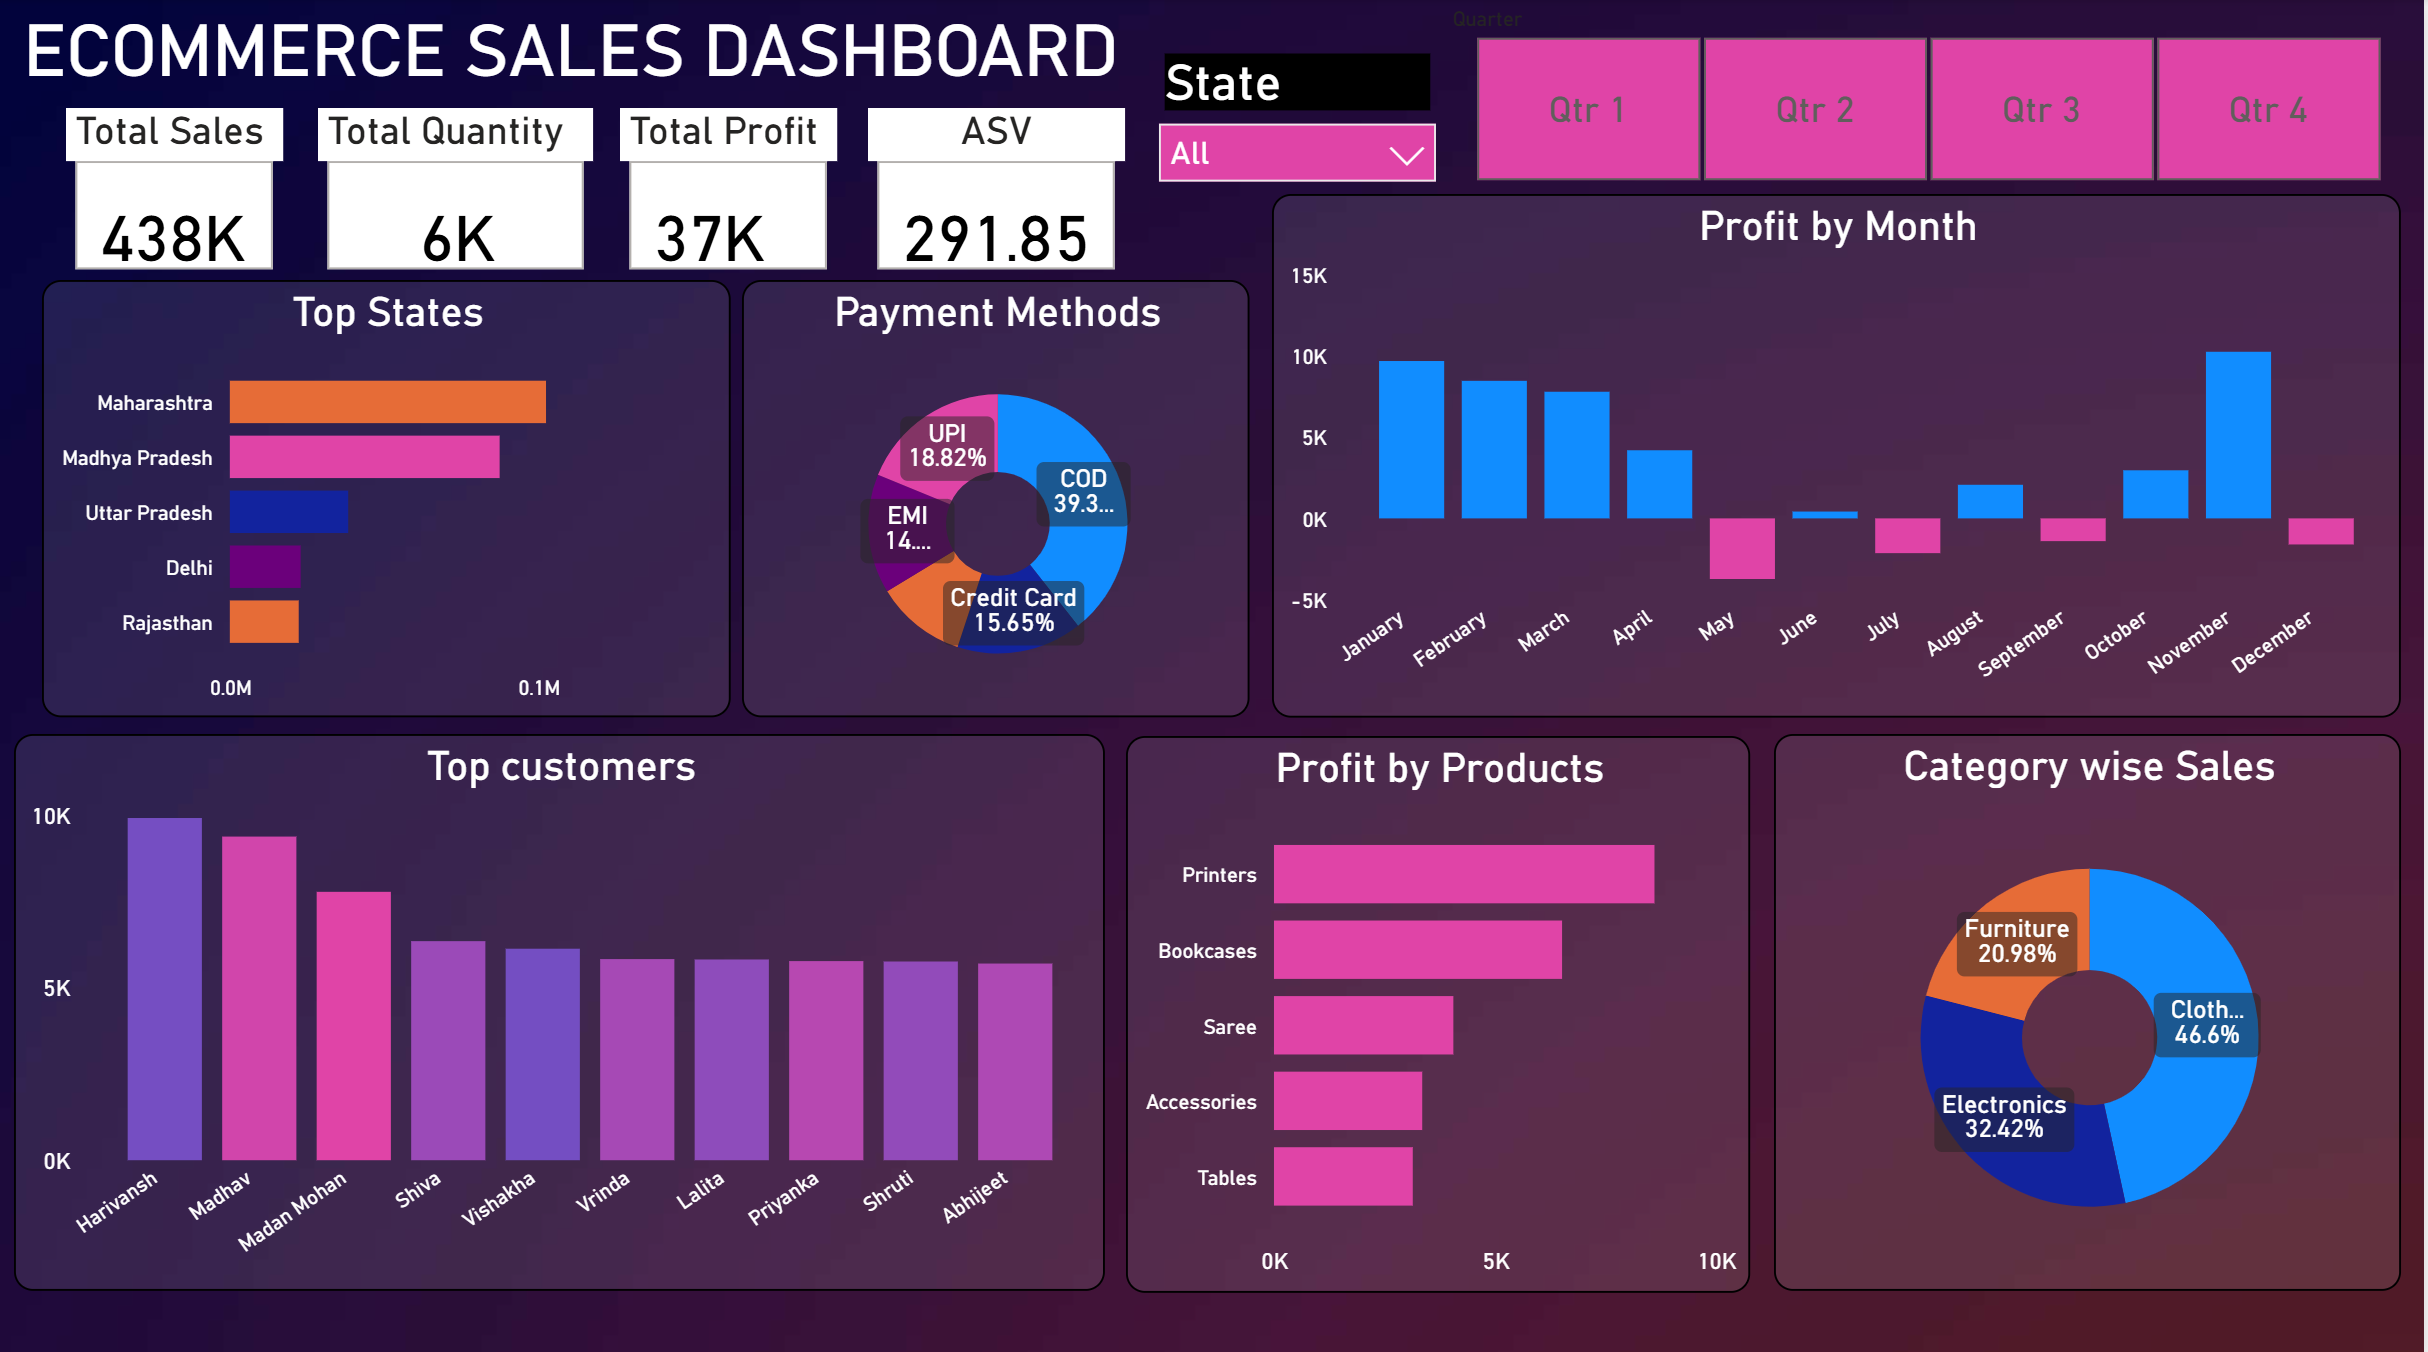

This screenshot's page, from the dashboard's own definition file:
{"tool":"powerbi","page":{"name":"Page 1","canvas":[1280,720],"ordinal":0},"visuals":[{"type":"textbox","box":[9.7,0,674.2,58.1],"z":0},{"type":"columnChart","title":"Profit by Month","fields":{"Category":["Orders.Order Date.Variation.Date Hierarchy.Month","Orders.Order Date.Variation.Date Hierarchy.Day"],"Y":["Details.Profit"]},"box":[672.6,103.2,595.2,275.8],"z":1000},{"type":"barChart","title":"Profit by Products","fields":{"Y":["Details.Profit"],"Category":["Details.Sub-Category"]},"box":[595.2,388.7,329,293.5],"z":2000},{"type":"donutChart","title":"Category wise Sales","fields":{"Y":["Details.Quantity"],"Series":["Details.Category"]},"box":[937.2,388.3,330.7,293.7],"z":3000},{"type":"donutChart","title":"Payment Methods","fields":{"Y":["Details.Quantity"],"Series":["Details.PaymentMode"]},"box":[393.5,148.4,267.7,230.6],"z":4000},{"type":"barChart","title":"Top States","fields":{"Category":["Orders.State"],"Y":["Details.Amount"]},"box":[24.2,148.4,362.9,230.6],"z":5000},{"type":"columnChart","title":"Top customers","fields":{"Category":["Orders.CustomerName"],"Y":["Details.Amount"]},"box":[9.6,388.3,575,293.7],"z":6000},{"type":"cardVisual","title":"Total Sales","fields":{"Data":["Details.Amount"]},"box":[37.1,58.1,114.5,90.3],"z":7000},{"type":"cardVisual","title":"Total Quantity","fields":{"Data":["Details.Quantity"]},"box":[169.4,58.1,145.2,90.3],"z":8000},{"type":"cardVisual","title":"ASV","fields":{"Data":["Details.Amount"]},"box":[459.7,58.1,135.5,90.3],"z":9000},{"type":"cardVisual","title":"Total Profit","fields":{"Data":["Details.Profit"]},"box":[329,58.1,114.5,90.3],"z":10000},{"type":"slicer","fields":{"Values":["Orders.Order Date.Variation.Date Hierarchy.Quarter"]},"box":[754.8,0,525.8,103.2],"z":11000},{"type":"slicer","fields":{"Values":["Orders.State"]},"box":[603.2,24.2,166.1,108.1],"z":12000}]}

Visuals, with their boxes in screenshot pixels (x1, y1, x2, y2), scaled from the page's 1280x720 canvas onto the 2428x1352 screenshot:
textbox: <box>18,0,1297,109</box>
"Profit by Month" columnChart: <box>1276,194,2405,712</box>
"Profit by Products" barChart: <box>1129,730,1753,1281</box>
"Category wise Sales" donutChart: <box>1778,729,2405,1281</box>
"Payment Methods" donutChart: <box>746,279,1254,712</box>
"Top States" barChart: <box>46,279,734,712</box>
"Top customers" columnChart: <box>18,729,1109,1281</box>
"Total Sales" cardVisual: <box>70,109,288,279</box>
"Total Quantity" cardVisual: <box>321,109,597,279</box>
"ASV" cardVisual: <box>872,109,1129,279</box>
"Total Profit" cardVisual: <box>624,109,841,279</box>
slicer - Orders.Order Date.Variation.Date Hierarchy.Quarter: <box>1432,0,2427,194</box>
slicer - Orders.State: <box>1144,45,1459,248</box>
